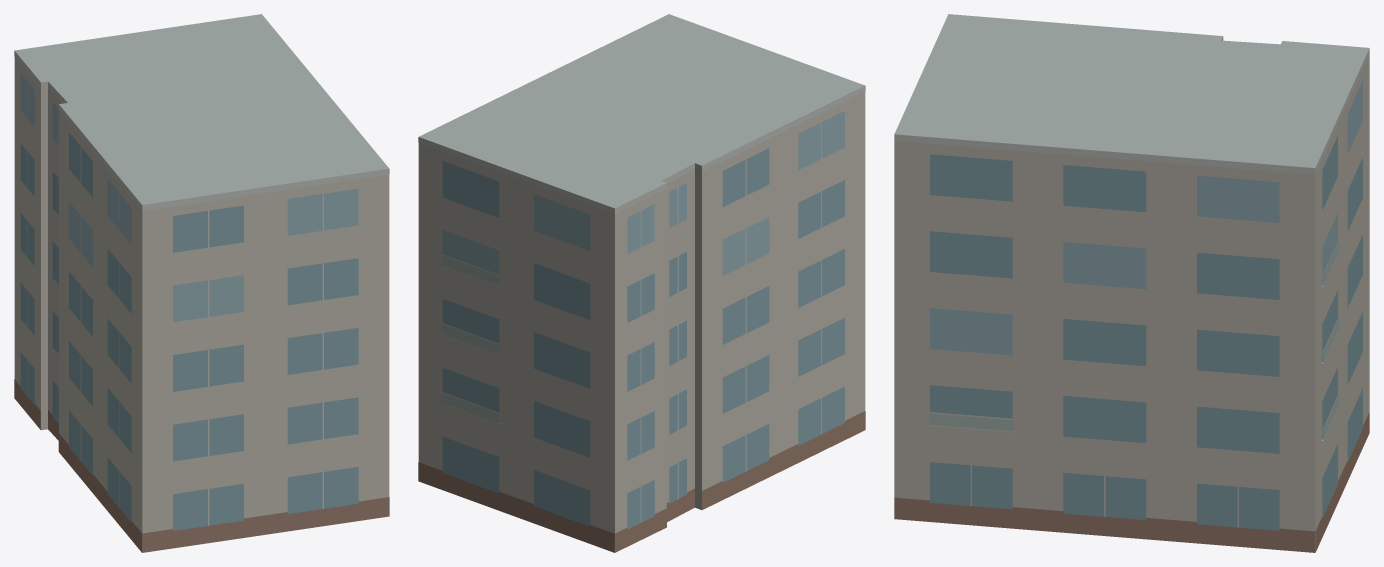
File: survey-upis-32539426.glb
3 views of the same model, side by side, from view 1: azimuth 30°, elevation 25°; view 2: azimuth 150°, elevation 25°; view 3: azimuth 270°, elevation 25° (orthographic). The views are drawn at different scales.
Parts seen in each view (by area): view 1: survey-upis-32539426.tmp; view 2: survey-upis-32539426.tmp; view 3: survey-upis-32539426.tmp.
Boxes of the visible parts, x1,y1,x2,y2 form: survey-upis-32539426.tmp: [14, 14, 389, 552]; survey-upis-32539426.tmp: [418, 14, 865, 552]; survey-upis-32539426.tmp: [894, 14, 1369, 552].
Bounding box in the file's own units: 12.14 × 14.12 × 15.82.
